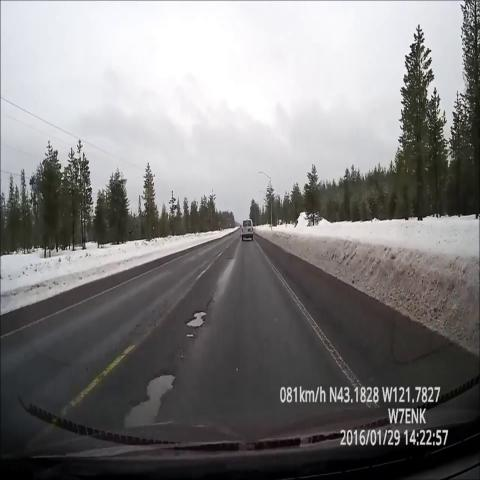pothole: (120, 359, 182, 442), (178, 290, 216, 344)
